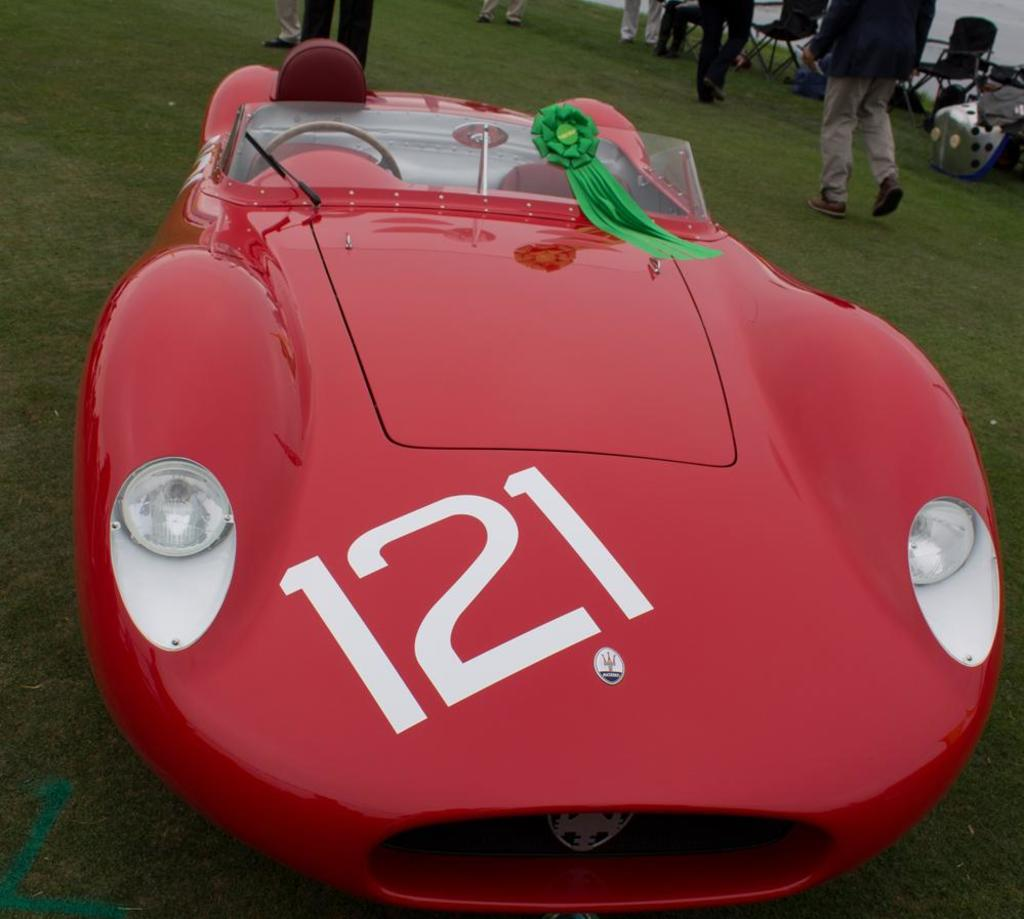cars: (70, 34, 1006, 918)
